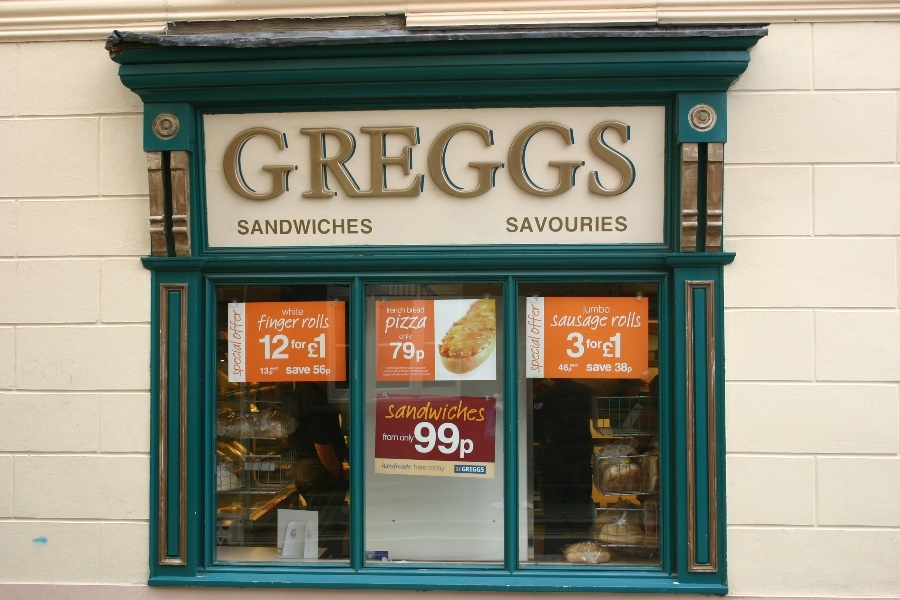text: (225, 120, 240, 200), (241, 120, 256, 200), (257, 120, 272, 200), (273, 120, 288, 200), (289, 120, 304, 200), (305, 120, 320, 200), (321, 120, 336, 200), (337, 120, 352, 200), (353, 120, 368, 200), (369, 120, 384, 200), (385, 120, 400, 200), (401, 120, 416, 200), (417, 120, 432, 200), (433, 120, 448, 200), (449, 120, 464, 200), (465, 120, 480, 200), (481, 120, 496, 200), (497, 120, 512, 200), (513, 120, 528, 200), (529, 120, 544, 200), (545, 120, 560, 200), (561, 120, 576, 200), (577, 120, 592, 200), (593, 120, 608, 200), (609, 120, 624, 200), (625, 120, 637, 200), (417, 421, 432, 459), (433, 421, 448, 459), (449, 421, 464, 459), (529, 336, 544, 374), (529, 304, 543, 335), (273, 335, 289, 360), (465, 421, 475, 459), (230, 341, 240, 378), (307, 333, 320, 359), (609, 333, 622, 359), (229, 310, 240, 340), (401, 400, 416, 422), (417, 400, 432, 422), (433, 400, 448, 422), (449, 400, 464, 422), (465, 400, 480, 422), (259, 335, 272, 360), (385, 314, 400, 334), (401, 314, 416, 334), (401, 342, 416, 362), (273, 314, 288, 332), (566, 332, 576, 359), (593, 315, 609, 331), (241, 218, 256, 235), (257, 218, 272, 235), (273, 218, 288, 235), (289, 218, 304, 235), (305, 218, 320, 235), (321, 218, 336, 235), (337, 218, 352, 235), (353, 218, 368, 235), (513, 216, 528, 233), (529, 216, 544, 233), (545, 216, 560, 233), (561, 216, 576, 233), (577, 216, 592, 233), (593, 216, 608, 233), (609, 216, 624, 233), (305, 313, 320, 330), (258, 314, 272, 332), (417, 314, 429, 334), (561, 315, 576, 331), (577, 315, 592, 331), (625, 312, 640, 328), (577, 332, 585, 359), (321, 313, 333, 330), (390, 342, 400, 362), (289, 314, 300, 332), (612, 312, 624, 328), (392, 400, 400, 422), (593, 305, 608, 316), (417, 342, 425, 362), (321, 333, 327, 359), (241, 341, 245, 378), (551, 315, 560, 331), (291, 339, 304, 350), (593, 364, 608, 373), (603, 333, 608, 359), (289, 308, 305, 316), (401, 434, 415, 443), (289, 367, 304, 375), (385, 462, 400, 470), (385, 433, 399, 441), (321, 365, 331, 376), (481, 400, 486, 422), (582, 305, 592, 316), (260, 367, 272, 376), (401, 332, 413, 341), (465, 466, 480, 473), (433, 465, 446, 473), (506, 216, 512, 233), (593, 339, 603, 349), (561, 364, 572, 373), (615, 363, 624, 374), (386, 307, 400, 314), (401, 462, 413, 470), (241, 310, 244, 340), (625, 363, 633, 374), (223, 120, 224, 200), (313, 365, 320, 376), (417, 464, 428, 471), (414, 421, 416, 459), (369, 218, 373, 235), (407, 307, 416, 314), (417, 307, 426, 314), (375, 552, 384, 559), (586, 339, 592, 349), (281, 308, 288, 316), (586, 364, 592, 373), (237, 218, 240, 235), (625, 216, 628, 233), (301, 313, 304, 330), (305, 367, 311, 375), (401, 370, 416, 373), (386, 367, 400, 370), (417, 366, 427, 370), (401, 373, 411, 377), (388, 367, 400, 370), (420, 373, 432, 376), (609, 364, 613, 373), (401, 307, 406, 314), (481, 466, 486, 473), (421, 370, 432, 373), (392, 373, 400, 377), (428, 465, 432, 473), (273, 367, 280, 371), (401, 366, 408, 370), (385, 373, 392, 377), (385, 552, 389, 559), (407, 367, 416, 370), (285, 367, 288, 375), (385, 370, 393, 373), (381, 462, 384, 470), (305, 339, 307, 350), (609, 305, 611, 316), (393, 370, 400, 373), (410, 370, 416, 373), (558, 364, 560, 373), (570, 364, 576, 367), (641, 312, 642, 328), (411, 373, 416, 376), (417, 370, 422, 373), (414, 464, 416, 471), (462, 466, 464, 473), (395, 374, 400, 376), (273, 367, 274, 376), (417, 373, 420, 376), (270, 367, 272, 371), (383, 433, 384, 441), (577, 364, 579, 367), (399, 366, 400, 370), (383, 373, 384, 377), (415, 366, 416, 370), (383, 370, 384, 373), (415, 370, 416, 373), (399, 371, 400, 373)
